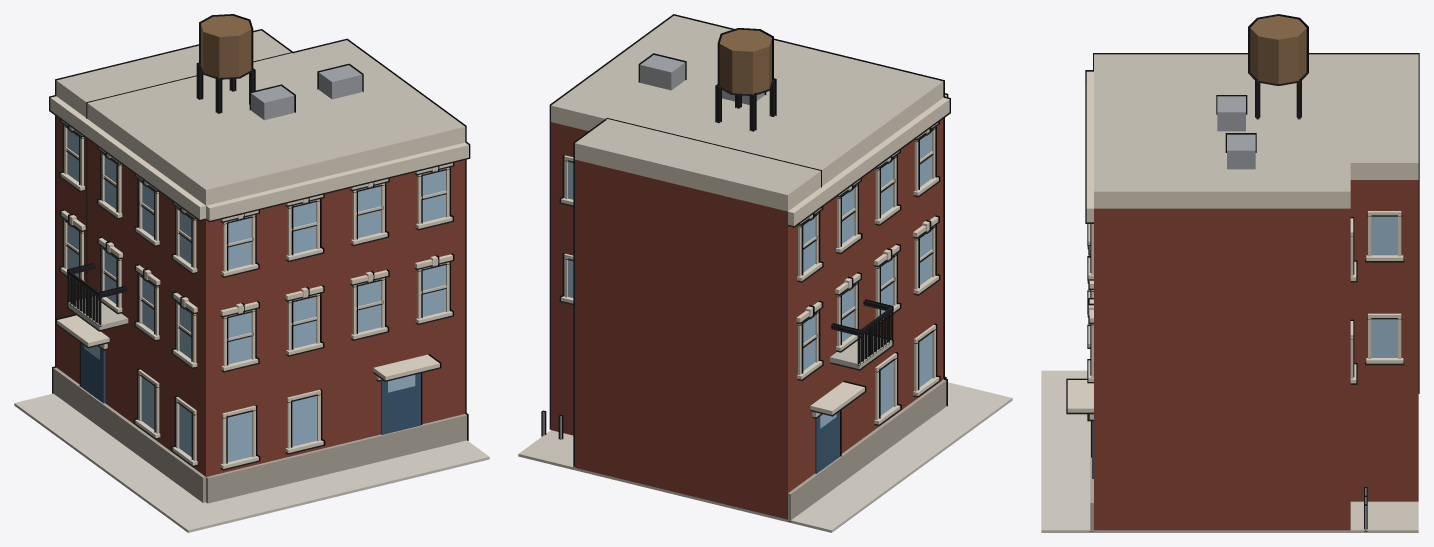
Rendered from Blok_kose_3k_2.fbx.
The picture shows the model from 3 angles, left to right: view 1: azimuth 30°, elevation 25°; view 2: azimuth 150°, elevation 25°; view 3: azimuth 270°, elevation 25°; orthographic projection. The views are drawn at different scales.
Parts seen in each view (by area): view 1: Blok_kose_3k_2; view 2: Blok_kose_3k_2; view 3: Blok_kose_3k_2.
Part boxes in pixels (<box>): Blok_kose_3k_2: <box>14,14,489,532</box>; Blok_kose_3k_2: <box>518,14,1012,532</box>; Blok_kose_3k_2: <box>1041,14,1419,532</box>.
Size of the model in its own units: 10.05 by 12.41 by 10.03.
